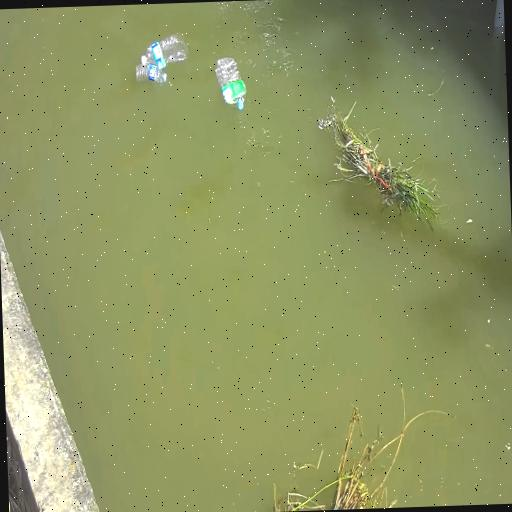plastic: (215, 57, 245, 110), (143, 34, 187, 69), (135, 64, 165, 85)
twig: (274, 386, 443, 511), (320, 97, 438, 220)
